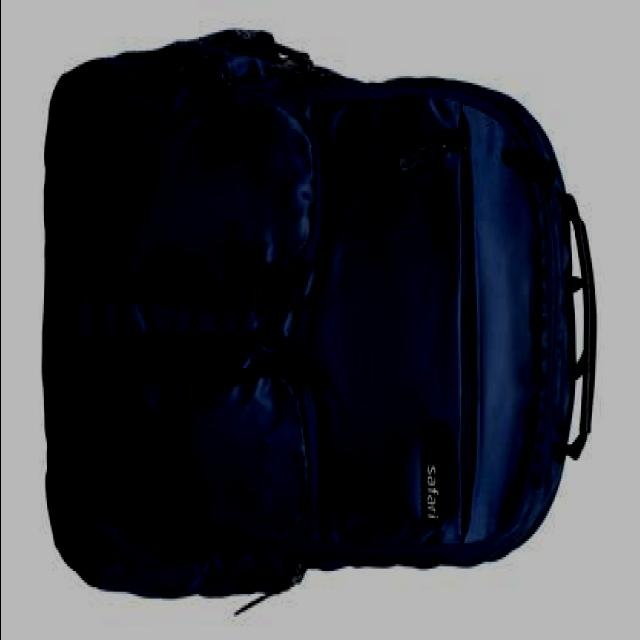backpack: (42, 27, 598, 614)
